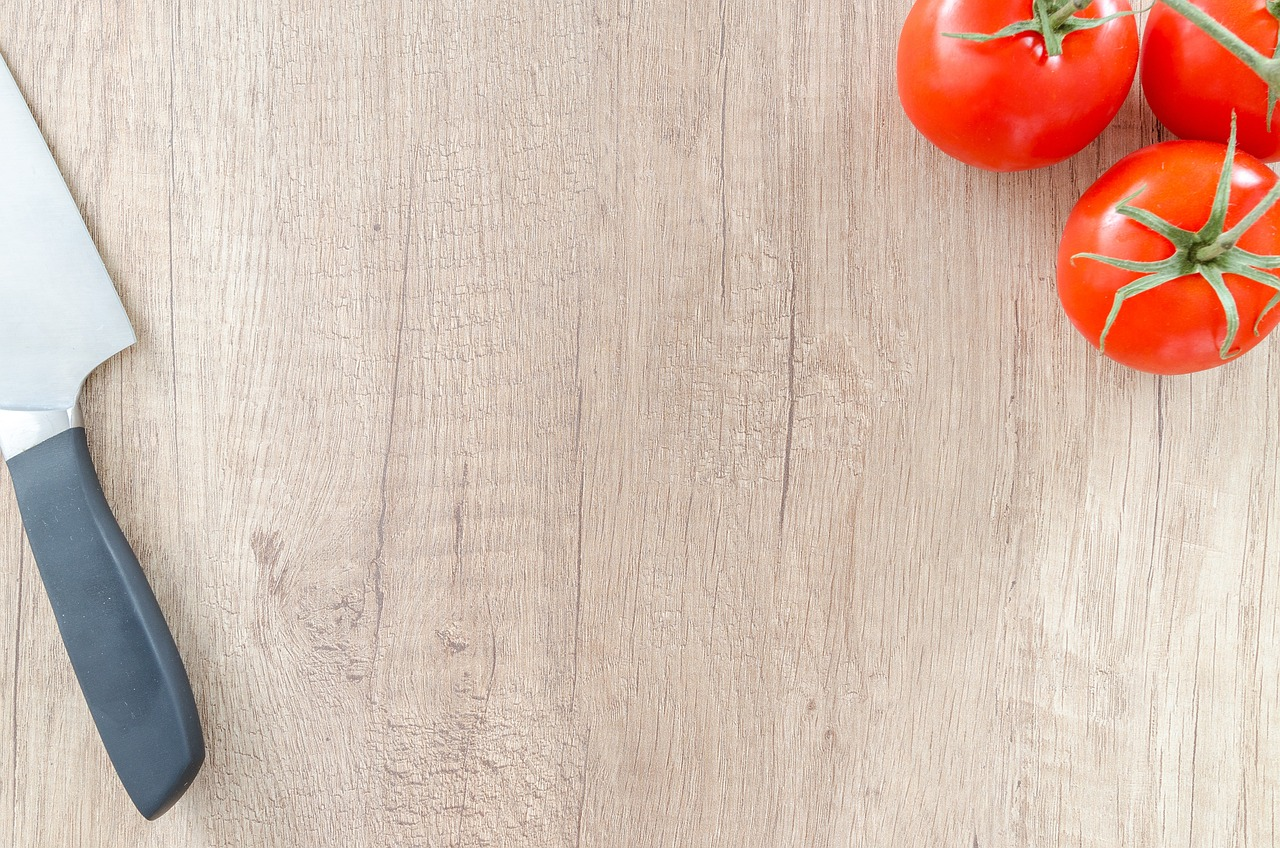knife: (0, 27, 218, 827)
